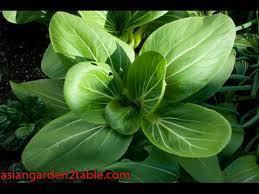Healthy-Pechay: (53, 13, 237, 147), (78, 10, 108, 29)
